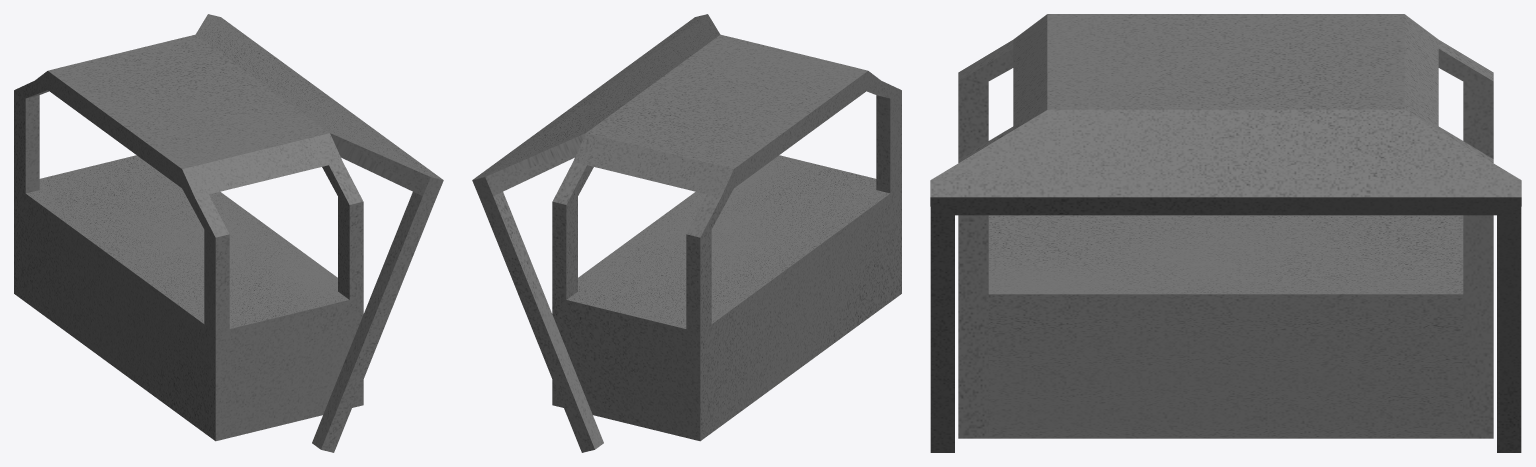
Rendered from Marketstand.FBX.
3 renders of one model, left to right at view 1: azimuth 30°, elevation 25°; view 2: azimuth 150°, elevation 25°; view 3: azimuth 270°, elevation 25°, orthographic. The views are drawn at different scales.
Visible parts, largest first — view 1: Box001; view 2: Box001; view 3: Box001.
Boxes of the visible parts, <box> form: Box001: <box>14,14,443,452</box>; Box001: <box>472,14,901,452</box>; Box001: <box>930,14,1521,452</box>.
Bounding box in the file's own units: 1.66 × 2.94 × 2.02.
1 material, 1 textured.
